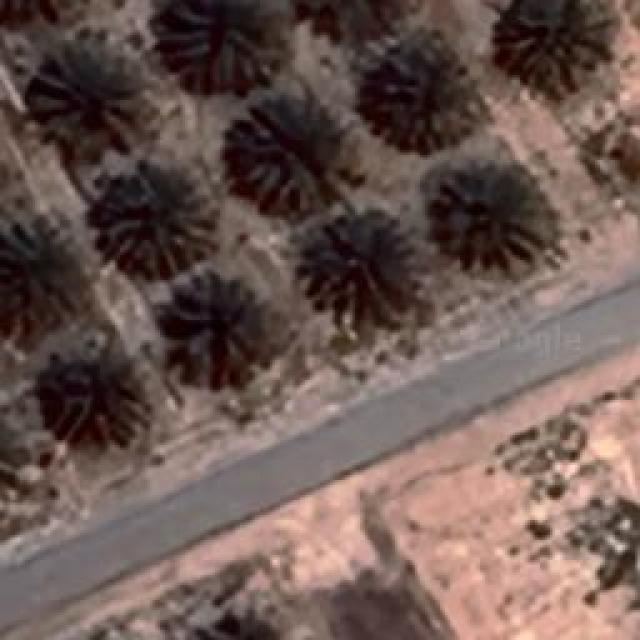PalmTree: (13, 85, 107, 454), (107, 20, 358, 85), (420, 159, 550, 269), (95, 160, 215, 278), (308, 210, 420, 332), (230, 92, 335, 210), (45, 330, 153, 442), (160, 0, 288, 88), (372, 48, 480, 150), (494, 0, 607, 92), (30, 48, 135, 142), (160, 268, 255, 362), (4, 222, 78, 336), (197, 612, 286, 640), (192, 620, 286, 640), (0, 401, 17, 508), (0, 0, 79, 22)
